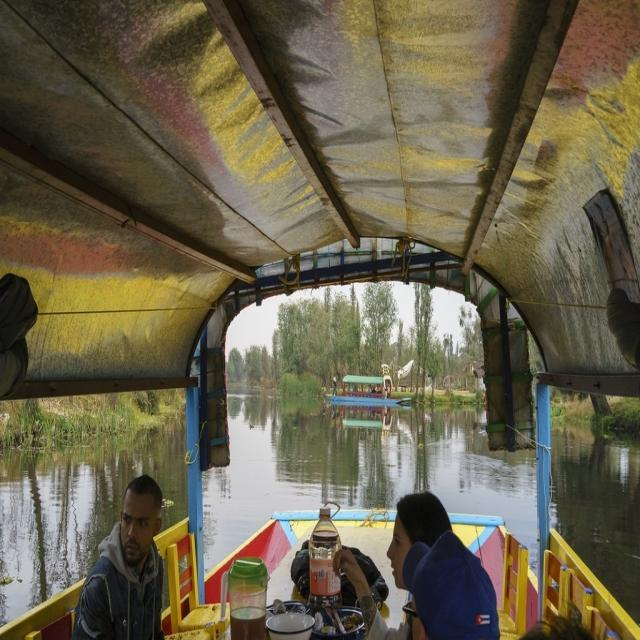boat: (321, 363, 423, 417)
